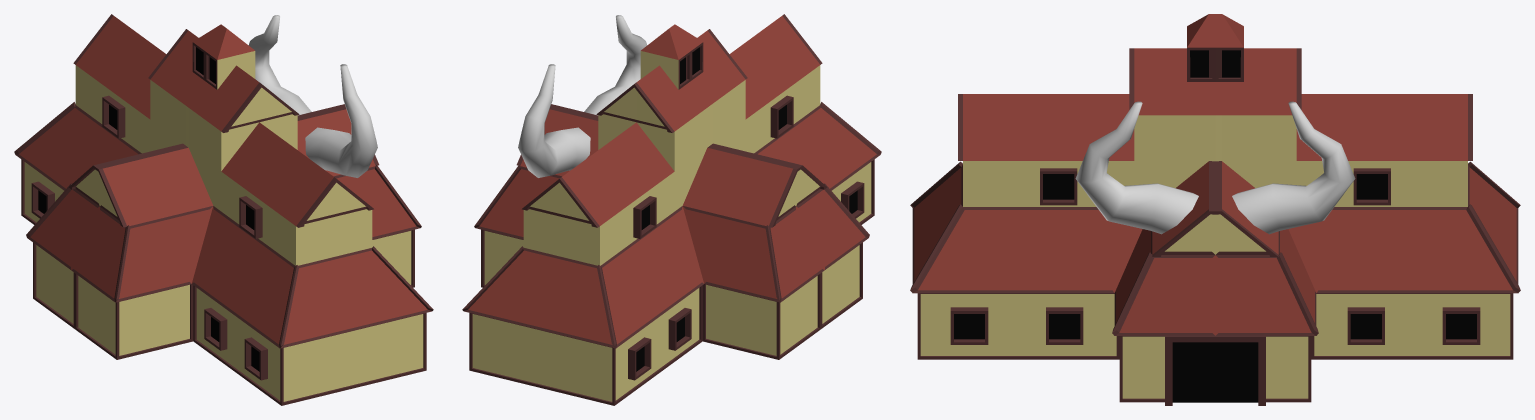
Rendered from vik_building1.fbx.
3 views of the same model, side by side, from view 1: azimuth 30°, elevation 25°; view 2: azimuth 150°, elevation 25°; view 3: azimuth 270°, elevation 25° (orthographic). The views are drawn at different scales.
Parts seen in each view (by area): view 1: Cube.001, Cube, BezierCurve.001, BezierCurve.000; view 2: Cube, Cube.001, BezierCurve.000, BezierCurve.001; view 3: Cube.001, Cube, Cube.002, BezierCurve.000, BezierCurve.001.
Boxes of the visible parts, left/top/right/bottom form: Cube.001: left=71, top=26, right=433, bottom=405; Cube: left=14, top=14, right=345, bottom=328; BezierCurve.001: left=305, top=64, right=377, bottom=177; BezierCurve.000: left=248, top=15, right=311, bottom=115; Cube: left=462, top=26, right=824, bottom=405; Cube.001: left=550, top=14, right=881, bottom=328; BezierCurve.000: left=518, top=64, right=590, bottom=177; BezierCurve.001: left=584, top=15, right=647, bottom=115; Cube.001: left=910, top=14, right=1215, bottom=402; Cube: left=1215, top=14, right=1520, bottom=402; Cube.002: left=1165, top=335, right=1265, bottom=405; BezierCurve.000: left=1232, top=101, right=1355, bottom=234; BezierCurve.001: left=1075, top=101, right=1198, bottom=234.
Bounding box in the file's own units: 805 × 668 × 1210.
